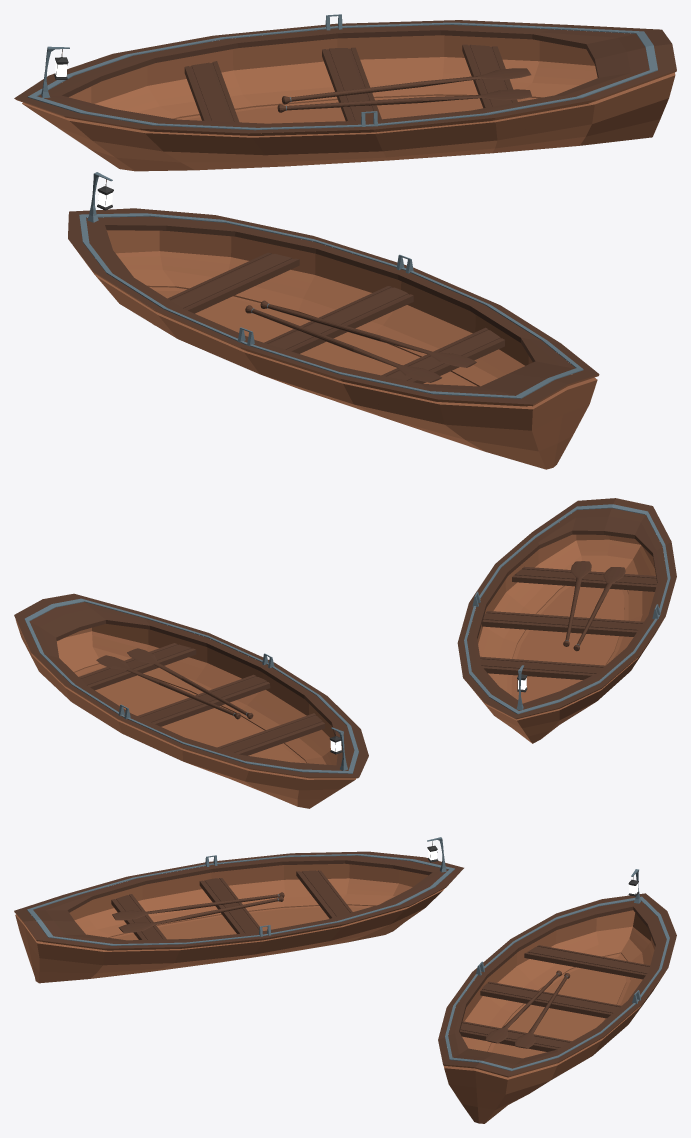
Rendered from Boats_draco.glb.
3 renders of one model, top to bottom at view 1: azimuth 30°, elevation 25°; view 2: azimuth 150°, elevation 25°; view 3: azimuth 270°, elevation 25°, orthographic. The views are drawn at different scales.
Parts seen in each view (by area): view 1: botobj_Mesh, botobj_Mesh1; view 2: botobj_Mesh, botobj_Mesh1; view 3: botobj_Mesh1, botobj_Mesh.
Boxes of the visible parts, bbox=[...] form: botobj_Mesh: bbox=[14, 14, 676, 171]; botobj_Mesh1: bbox=[68, 172, 599, 469]; botobj_Mesh: bbox=[14, 593, 368, 808]; botobj_Mesh1: bbox=[457, 498, 676, 743]; botobj_Mesh1: bbox=[14, 837, 463, 983]; botobj_Mesh: bbox=[438, 869, 676, 1123].
Size of the model in its own units: 0.0968 by 0.0173 by 0.1187.
